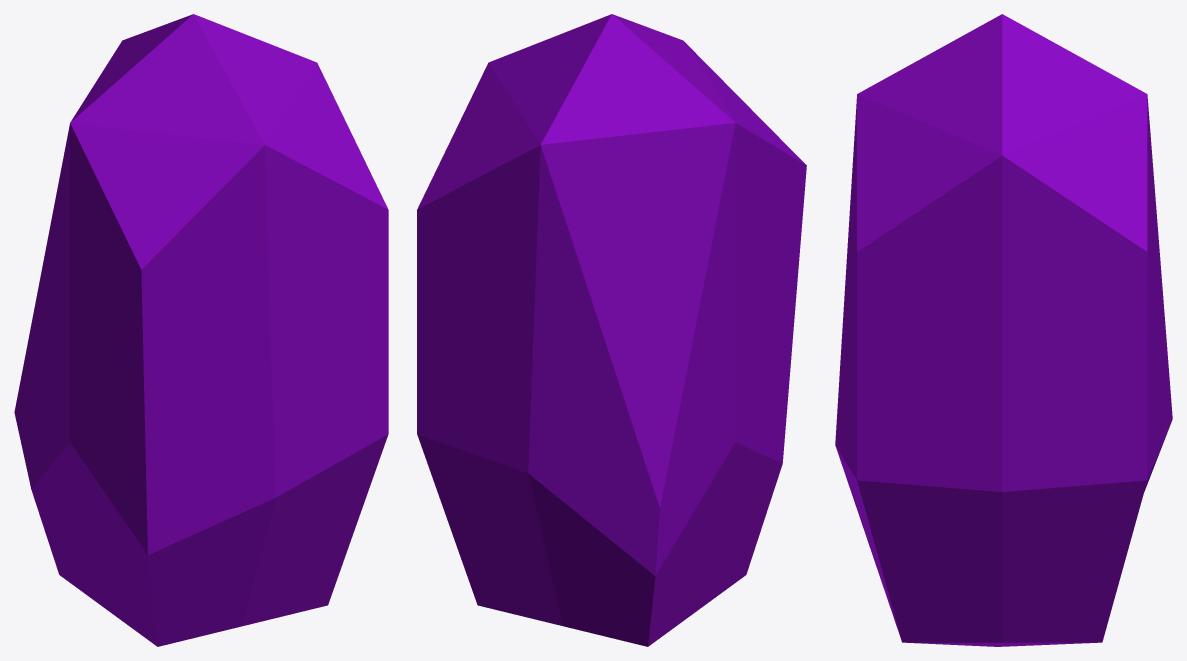
The model's file is crystal_2.fbx.
3 renders of one model, left to right at view 1: azimuth 30°, elevation 25°; view 2: azimuth 150°, elevation 25°; view 3: azimuth 270°, elevation 25°, orthographic.
Visible parts, largest first — view 1: Crystal_2; view 2: Crystal_2; view 3: Crystal_2.
Boxes of the visible parts, <box> form: Crystal_2: <box>14,14,388,646</box>; Crystal_2: <box>417,14,806,646</box>; Crystal_2: <box>835,14,1172,646</box>.
Bounding box in the file's own units: 219 × 481 × 233.
